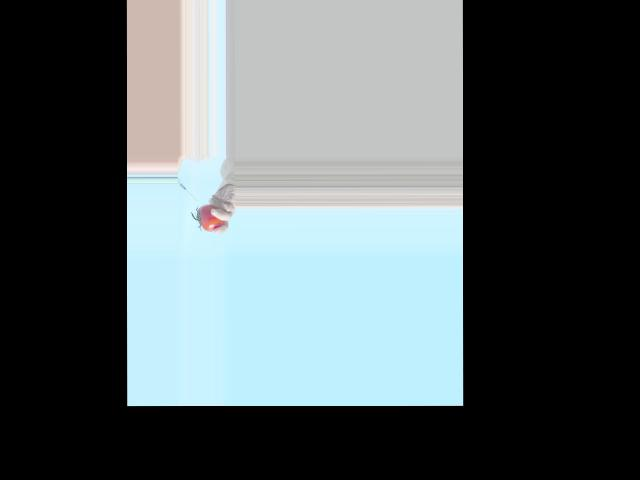tomato: (197, 204, 224, 232)
